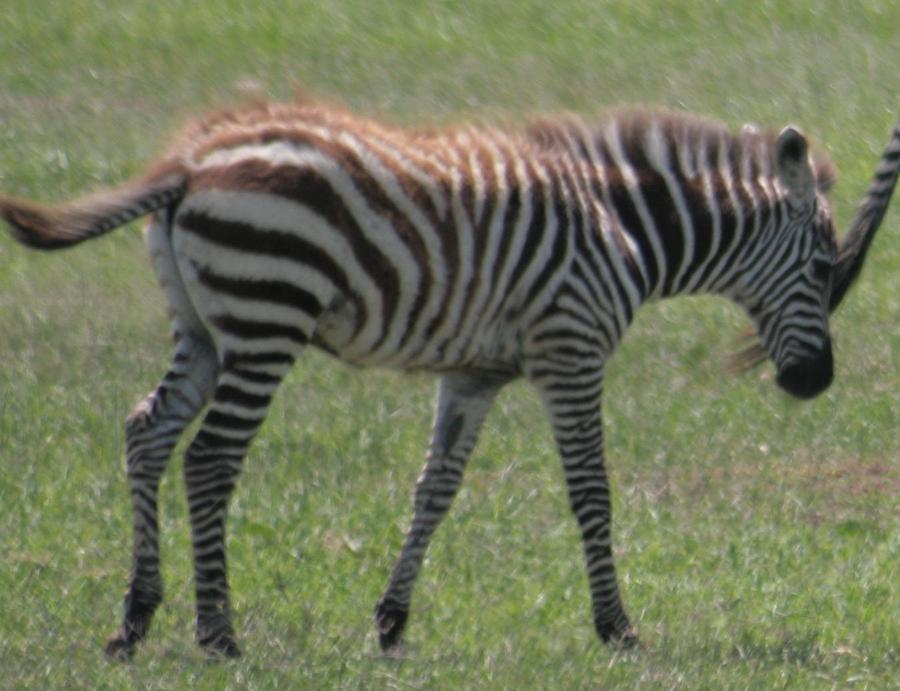zebra_plains: (161, 97, 672, 426)
